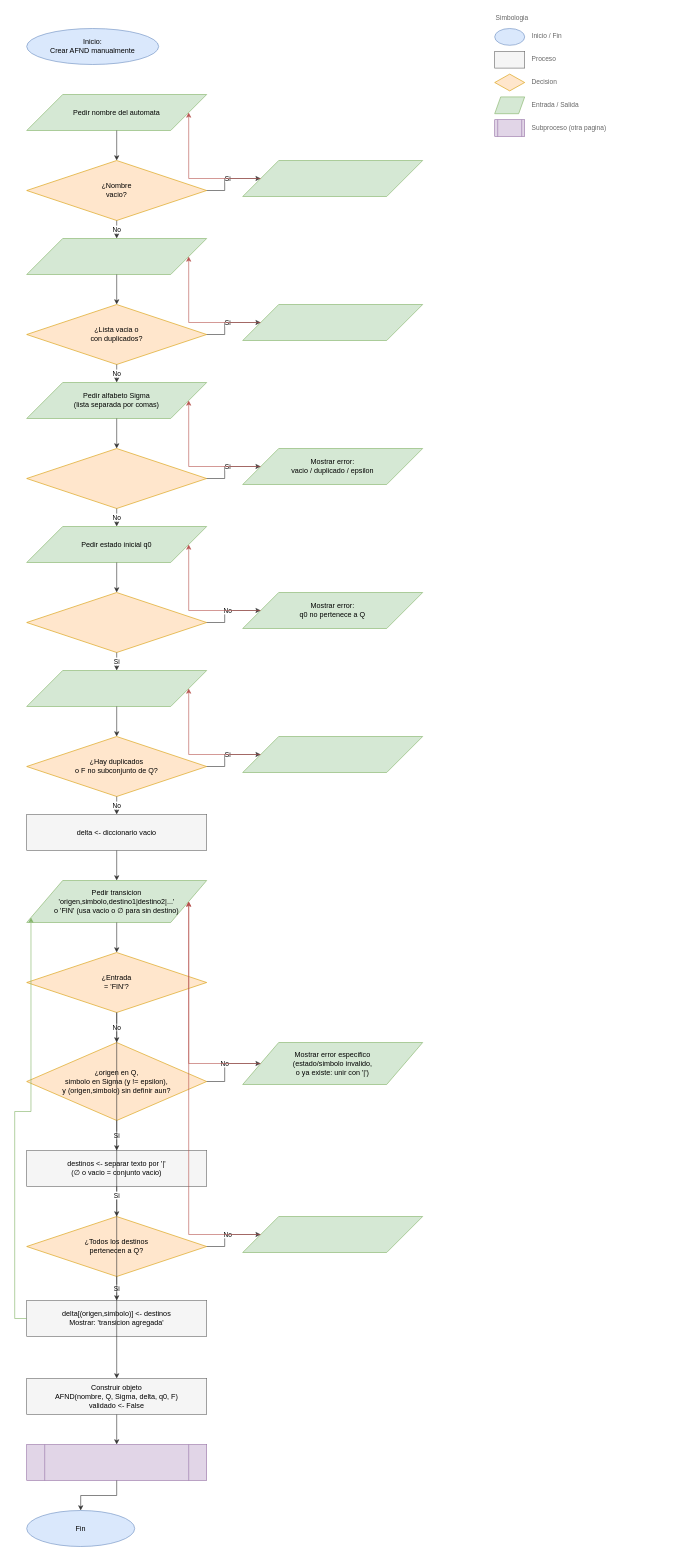
Image size: 673x1557. Some labels were removed from this diagram. The box of each missing label's shape, as (x1, y1, x2, y2) in pixels:
Mostrar error: destino no pertenece a Q: (242, 1216, 423, 1252)
Mostrar error: duplicado / F no subconjunto de Q: (242, 736, 423, 772)
Mostrar error: nombre vacio: (242, 160, 423, 196)
Mostrar error: vacio o duplicado: (242, 304, 423, 340)
Pedir estados finales F (puede quedar vacio): (26, 670, 207, 706)
Pedir estados Q (lista separada por comas): (26, 238, 207, 274)
Subproceso: Regresar a Flujo Principal: (26, 1444, 207, 1480)
¿q0 pertenece a Q?: (26, 592, 207, 652)
¿Vacio, duplicado o contiene epsilon?: (26, 448, 207, 508)
